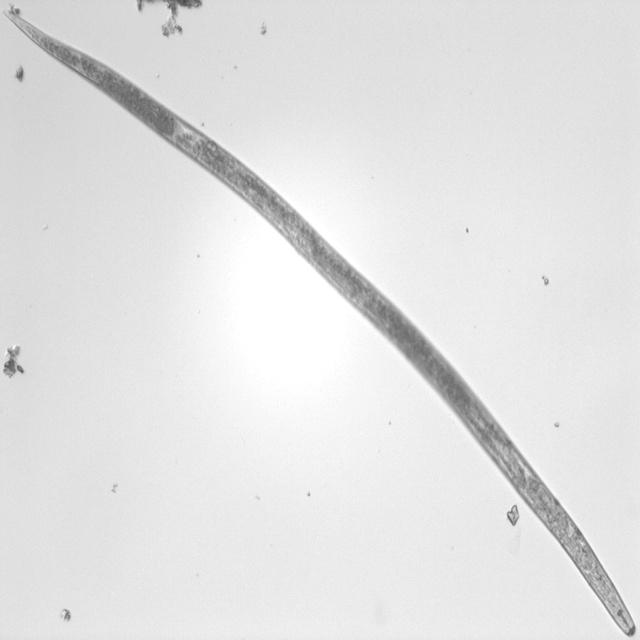Radopholus: (1, 7, 639, 638)
